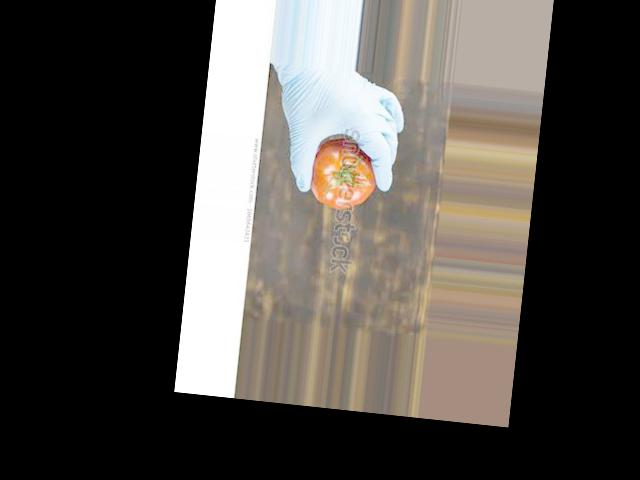tomato: (307, 135, 379, 214)
